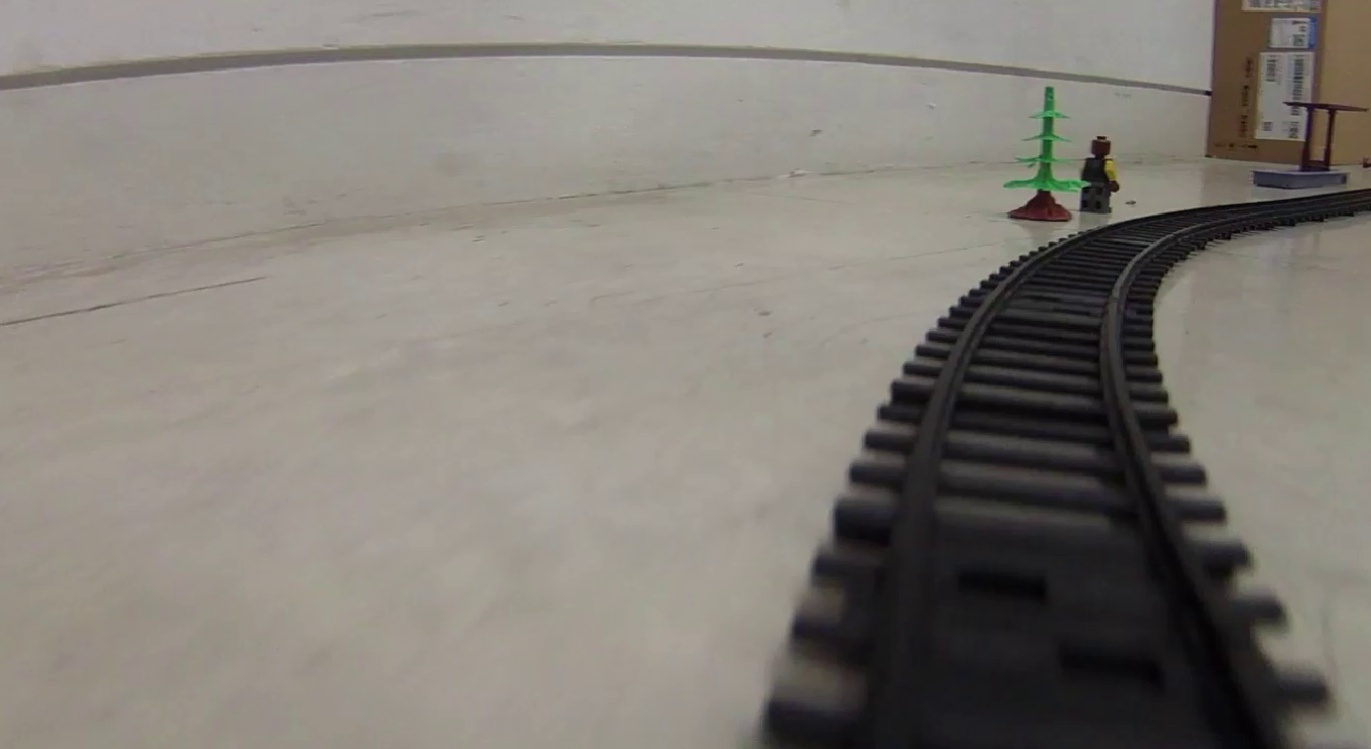people: (1079, 134, 1118, 213)
tree: (1002, 84, 1084, 223)
